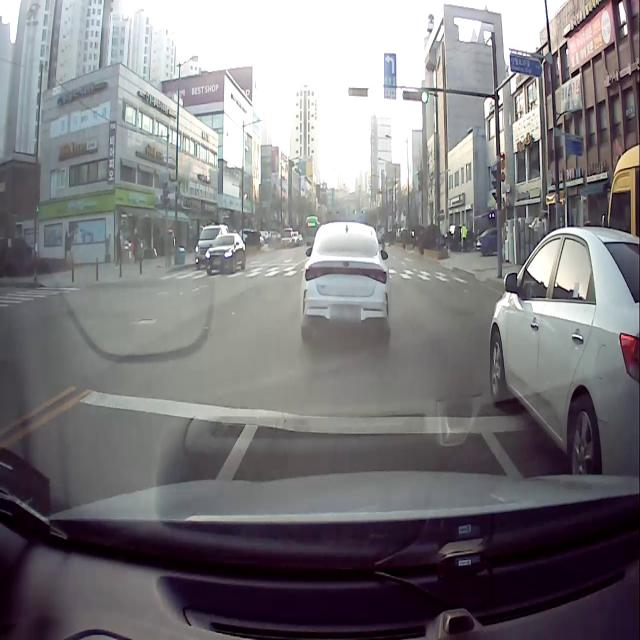Green Light: (421, 90, 428, 104), (367, 87, 374, 99)
